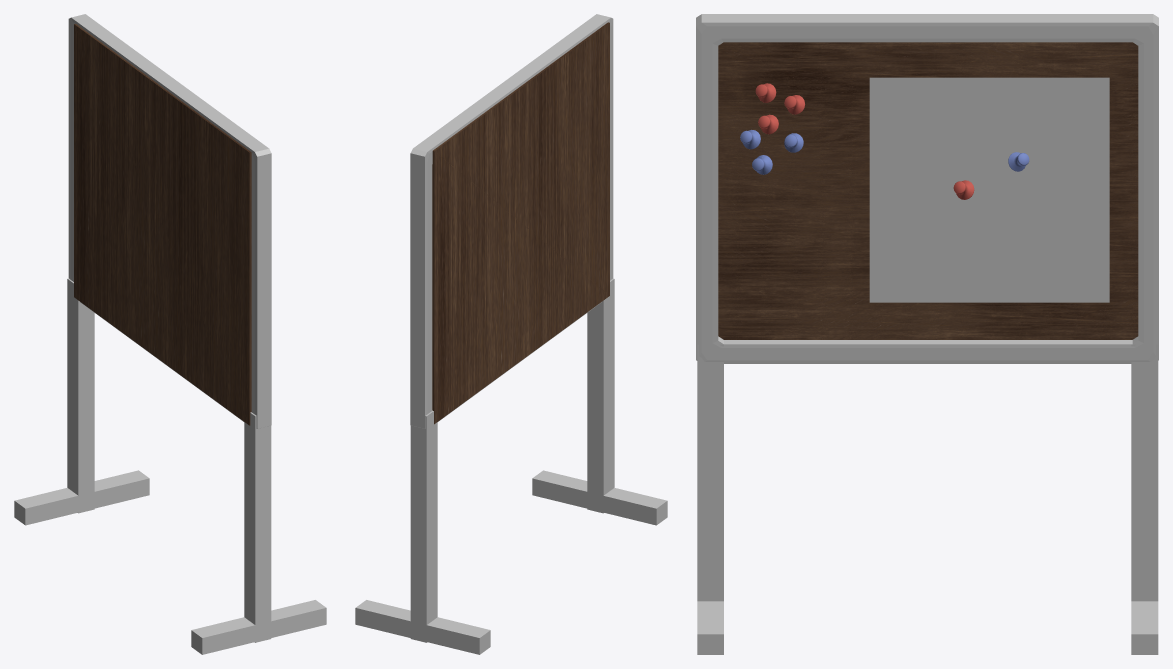
The model's file is fight.fbx.
3 views of the same model, side by side, from view 1: azimuth 30°, elevation 25°; view 2: azimuth 150°, elevation 25°; view 3: azimuth 270°, elevation 25° (orthographic). The views are drawn at different scales.
Parts seen in each view (by area): view 1: Cube.001, Cube.014, Cube.002, Cube.003, Cube.004, Cube.005; view 2: Cube.001, Cube.014, Cube.003, Cube.002, Cube.004, Cube.005; view 3: Cube.001, Plane, Cube.014, Cube.003, Cube.002, Cube.004, Cube.005.
Boxes of the visible parts, x1,y1,x2,y2 form: Cube.001: [74, 24, 251, 425]; Cube.014: [68, 14, 271, 428]; Cube.002: [244, 412, 271, 642]; Cube.003: [67, 278, 94, 513]; Cube.004: [14, 470, 149, 525]; Cube.005: [191, 600, 326, 654]; Cube.001: [432, 22, 609, 424]; Cube.014: [410, 14, 613, 428]; Cube.003: [410, 410, 437, 642]; Cube.002: [587, 278, 614, 513]; Cube.004: [355, 600, 490, 654]; Cube.005: [532, 470, 667, 525]; Cube.001: [718, 42, 1138, 339]; Plane: [869, 77, 1109, 302]; Cube.014: [696, 14, 1158, 363]; Cube.003: [1131, 344, 1158, 601]; Cube.002: [697, 344, 723, 601]; Cube.004: [1131, 601, 1158, 654]; Cube.005: [697, 601, 723, 654].
Bounding box in the file's own units: 62.6 × 235 × 165.
